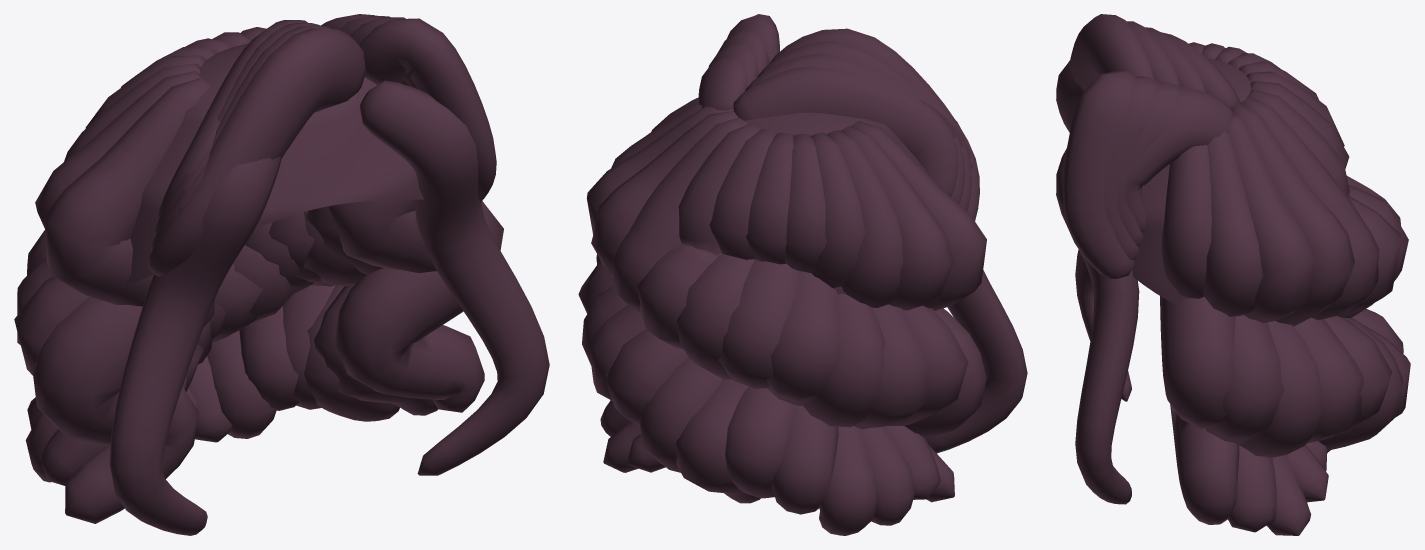
The model's file is studio_curly_long_short.glb.
3 views of the same model, side by side, from view 1: azimuth 30°, elevation 25°; view 2: azimuth 150°, elevation 25°; view 3: azimuth 270°, elevation 25° (orthographic). The views are drawn at different scales.
Visible parts, largest first — view 1: curly_long; view 2: curly_long; view 3: curly_long.
Part boxes in pixels (x1,y1,x2,y2): curly_long: (14, 14, 549, 535); curly_long: (578, 14, 1027, 535); curly_long: (1056, 14, 1410, 535).
Size of the model in its own units: 0.6714 by 0.6956 by 0.5044.
